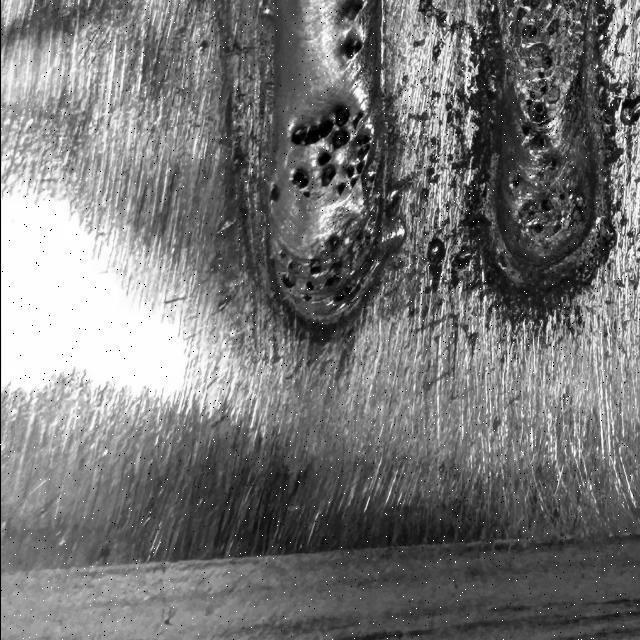Excess Reinforcement: (458, 0, 624, 317), (376, 217, 404, 257)
Porosity: (504, 0, 586, 125), (290, 118, 332, 145), (339, 280, 365, 307), (339, 0, 366, 23), (279, 252, 296, 288), (341, 38, 362, 62), (519, 18, 538, 42), (528, 102, 548, 123), (528, 133, 550, 152), (545, 12, 561, 37), (291, 168, 308, 190), (520, 120, 535, 142), (320, 165, 335, 187), (331, 132, 349, 150), (344, 162, 364, 178), (335, 105, 349, 127), (334, 287, 351, 303), (356, 143, 370, 162), (364, 174, 375, 195), (309, 258, 321, 277), (355, 133, 371, 147), (351, 112, 362, 130), (549, 157, 561, 173), (328, 235, 340, 251), (539, 78, 550, 95), (318, 152, 330, 167), (324, 275, 339, 287), (269, 185, 279, 202), (541, 55, 552, 70), (525, 92, 535, 108), (540, 198, 551, 212), (516, 7, 526, 22), (329, 261, 341, 273), (336, 182, 345, 197), (508, 178, 519, 190), (553, 220, 561, 235), (364, 228, 372, 242), (526, 207, 536, 218), (355, 230, 364, 242), (532, 223, 542, 233), (349, 177, 358, 188), (301, 189, 310, 200), (305, 282, 314, 290), (302, 295, 311, 302), (557, 192, 565, 199), (538, 72, 545, 78)
Spatters: (620, 96, 640, 127), (426, 237, 445, 265), (386, 182, 401, 213), (259, 0, 274, 15), (486, 75, 496, 93), (198, 40, 209, 52)
